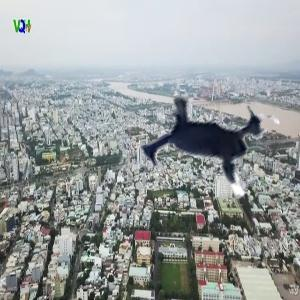drone: (117, 58, 300, 241)
